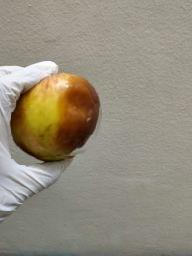Apple Semirotten: (11, 72, 103, 160)
